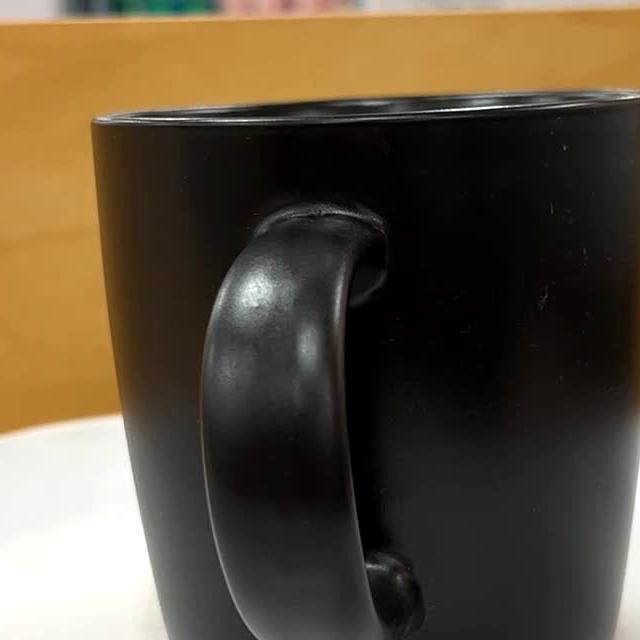cup: (99, 100, 640, 640)
